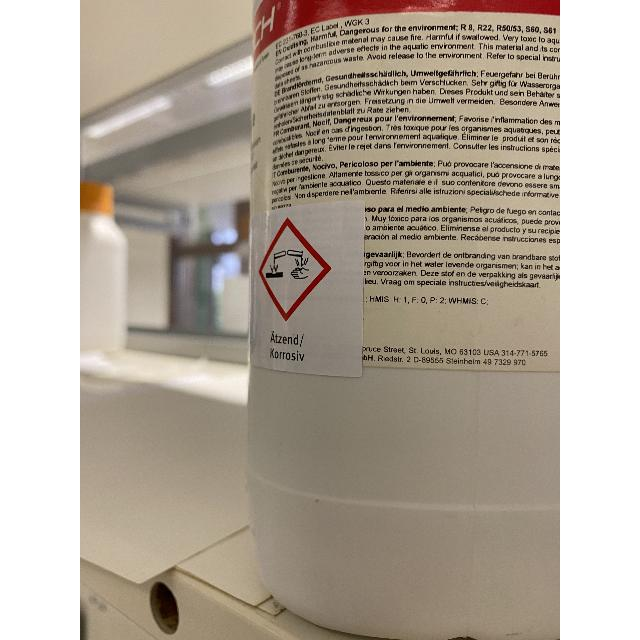corrosive: (266, 249, 310, 279)
